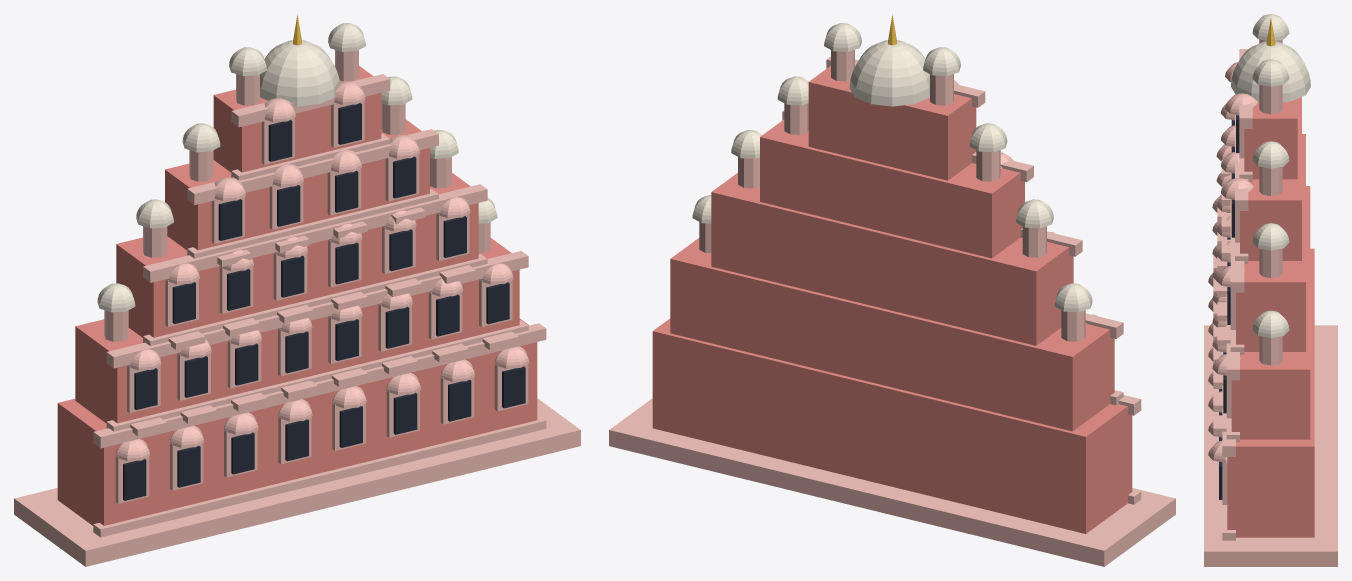
The model's file is hawa-mahal.glb.
3 renders of one model, left to right at view 1: azimuth 30°, elevation 25°; view 2: azimuth 150°, elevation 25°; view 3: azimuth 270°, elevation 25°, orthographic. The views are drawn at different scales.
Parts seen in each view (by area): view 1: hawa-mahal; view 2: hawa-mahal; view 3: hawa-mahal.
Part boxes in pixels (x1,y1,x2,y2): hawa-mahal: (14, 14, 580, 566); hawa-mahal: (609, 14, 1175, 566); hawa-mahal: (1204, 14, 1337, 566).
Bounding box in the file's own units: 4.44 × 4 × 1.11.
